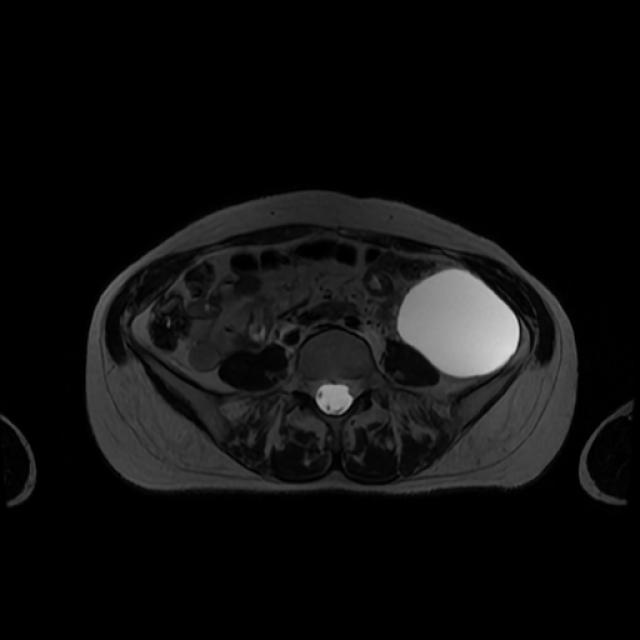sol: (398, 264, 519, 380)
